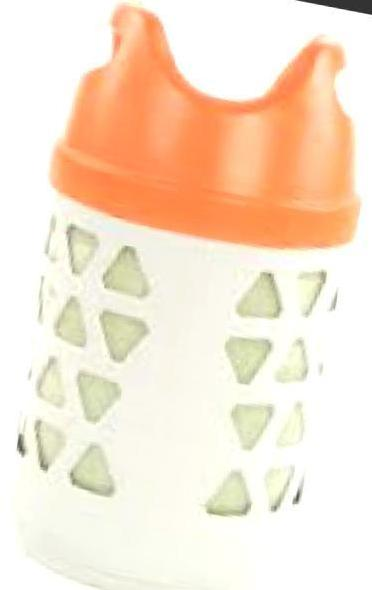cylinder: (1, 0, 372, 590)
